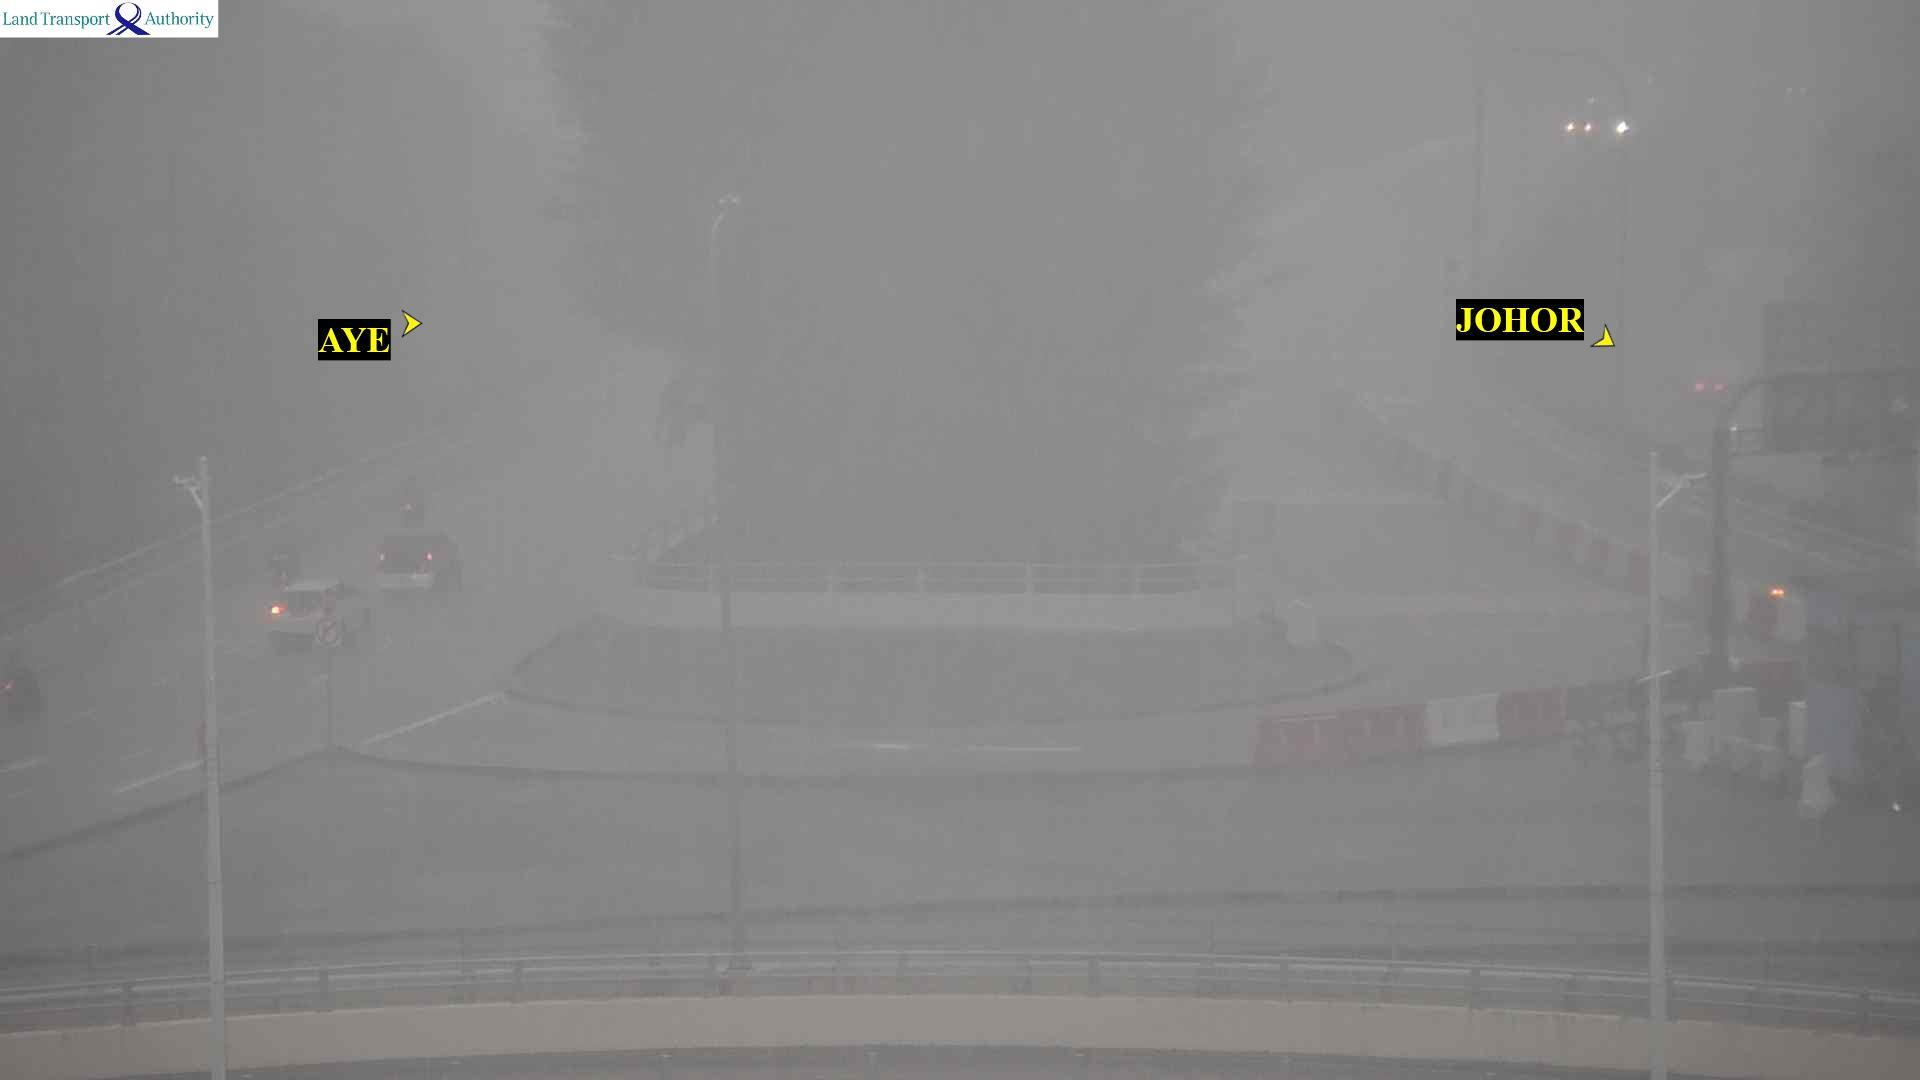vehicle-secondlink-singapore: (368, 533, 456, 597), (273, 583, 361, 638)
